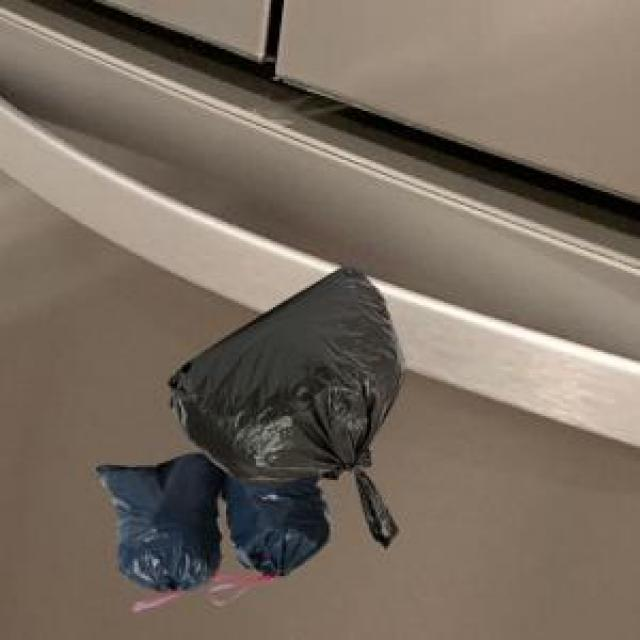waste: (192, 258, 408, 504), (94, 451, 219, 592), (226, 478, 340, 577)
